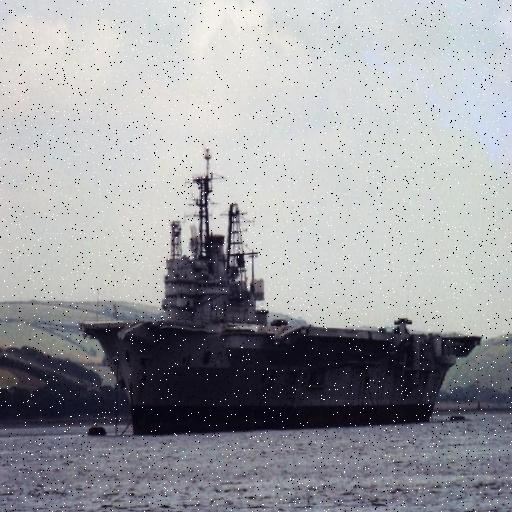Portanaves: (81, 149, 485, 445)
